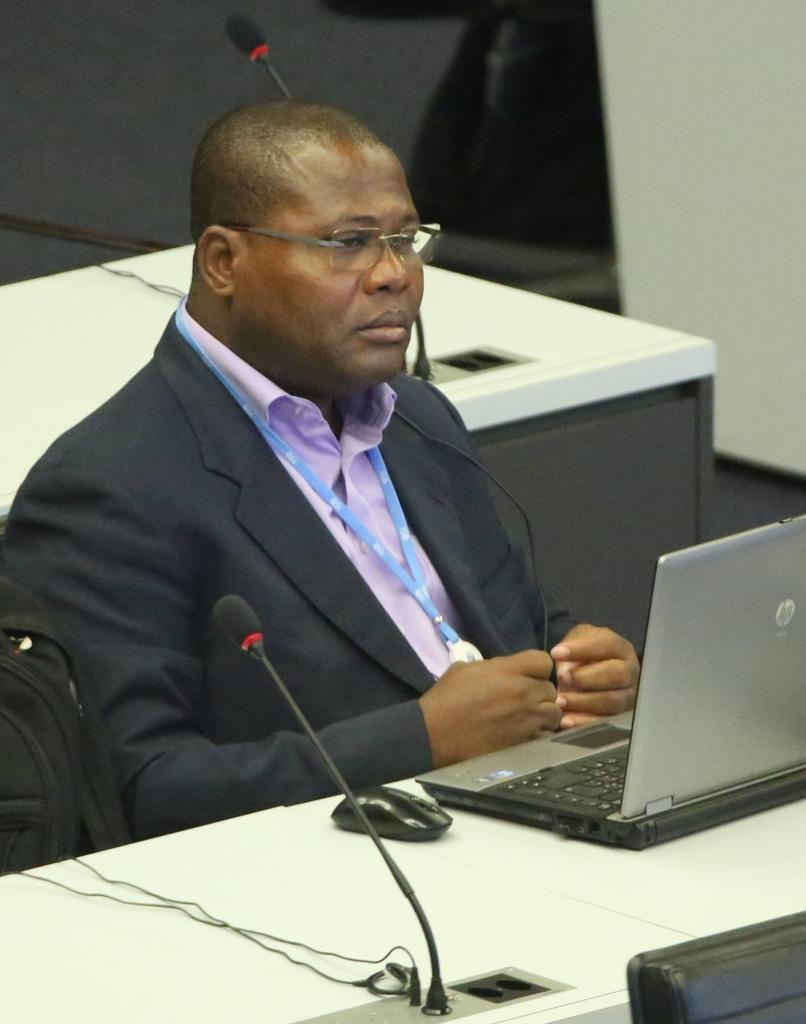Laptop: (414, 550, 786, 854)
